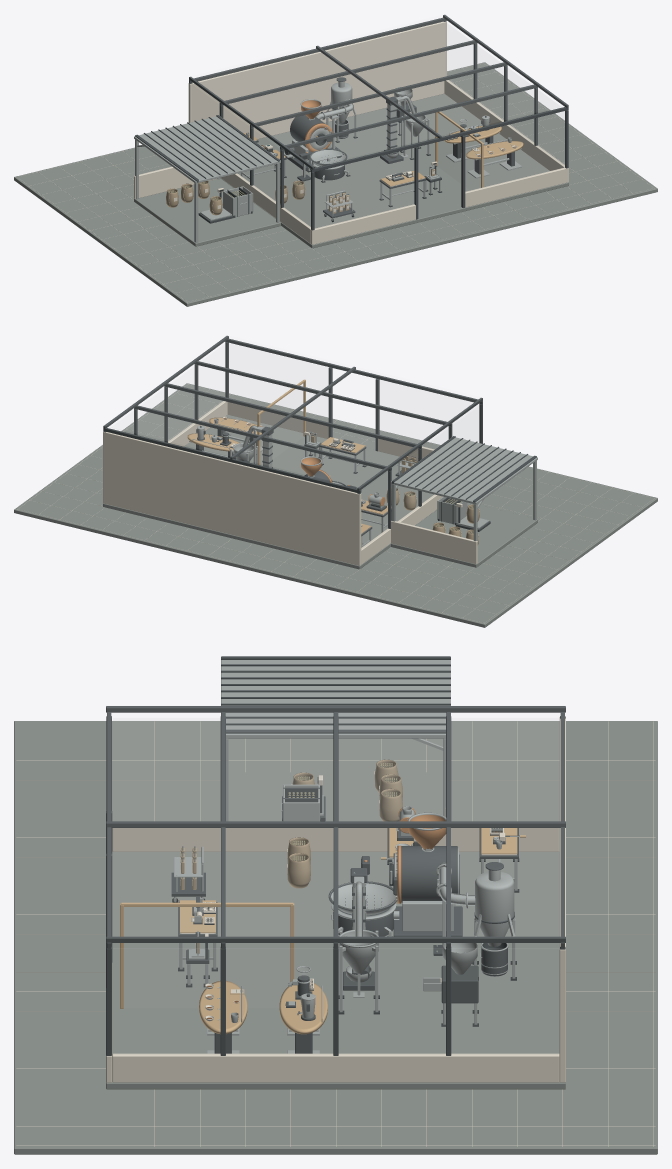
File: coffee-roastery-and-cupping-room-coffee--4987e4ff-starter-scene__32227.glb
3 views of the same model, one above another, from view 1: azimuth 30°, elevation 25°; view 2: azimuth 150°, elevation 25°; view 3: azimuth 270°, elevation 25° (orthographic). The views are drawn at different scales.
Parts seen in each view (by area): view 1: 001-coffee-roastery-and-cupping-room-roofed-coffee-roastery/ (×4), 000-coffee-roastery-and-cupping-room-roastery-floor-base/0, 002-coffee-roastery-and-cupping-room-covered-bean-receiving- (×4), 000-coffee-roastery-and-cupping-room-roastery-floor-base/1, 003-coffee-roastery-and-cupping-room-drum-coffee-roaster/0, 017-coffee-roastery-and-cupping-room-roasted-coffee-holding-, 025-coffee-roastery-and-cupping-room-green-coffee-storage-bi, 006-coffee-roastery-and-cupping-room-chaff-cyclone/0, 035-coffee-roastery-and-cupping-room-cupping-table/2, 003-coffee-roastery-and-cupping-room-drum-coffee-roaster/1, 016-coffee-roastery-and-cupping-room-bean-transfer-elevator/, 013-coffee-roastery-and-cupping-room-cooling-tray/0; view 2: 001-coffee-roastery-and-cupping-room-roofed-coffee-roastery/ (×4), 000-coffee-roastery-and-cupping-room-roastery-floor-base/0, 002-coffee-roastery-and-cupping-room-covered-bean-receiving- (×4), 000-coffee-roastery-and-cupping-room-roastery-floor-base/1, 025-coffee-roastery-and-cupping-room-green-coffee-storage-bi, 017-coffee-roastery-and-cupping-room-roasted-coffee-holding-, 047-coffee-roastery-and-cupping-room-cupping-table/2; view 3: 001-coffee-roastery-and-cupping-room-roofed-coffee-roastery/ (×5), 000-coffee-roastery-and-cupping-room-roastery-floor-base/0, 002-coffee-roastery-and-cupping-room-covered-bean-receiving- (×3), 000-coffee-roastery-and-cupping-room-roastery-floor-base/1, 003-coffee-roastery-and-cupping-room-drum-coffee-roaster/0, 006-coffee-roastery-and-cupping-room-chaff-cyclone/0, 017-coffee-roastery-and-cupping-room-roasted-coffee-holding-, 003-coffee-roastery-and-cupping-room-drum-coffee-roaster/1, 035-coffee-roastery-and-cupping-room-cupping-table/2, 047-coffee-roastery-and-cupping-room-cupping-table/2, 013-coffee-roastery-and-cupping-room-cooling-tray/0, 018-coffee-roastery-and-cupping-room-roasted-bean-destoner/2 (+8 smaller).
Part boxes in pixels (x1=…): 001-coffee-roastery-and-cupping-room-roofed-coffee-roastery/ (×4): x1=188, y1=14, x2=568, y2=248; 000-coffee-roastery-and-cupping-room-roastery-floor-base/0: x1=14, y1=62, x2=657, y2=306; 002-coffee-roastery-and-cupping-room-covered-bean-receiving- (×4): x1=134, y1=115, x2=280, y2=246; 000-coffee-roastery-and-cupping-room-roastery-floor-base/1: x1=17, y1=63, x2=654, y2=302; 003-coffee-roastery-and-cupping-room-drum-coffee-roaster/0: x1=284, y1=115, x2=332, y2=170; 017-coffee-roastery-and-cupping-room-roasted-coffee-holding-: x1=401, y1=95, x2=429, y2=158; 025-coffee-roastery-and-cupping-room-green-coffee-storage-bi: x1=223, y1=186, x2=253, y2=217; 006-coffee-roastery-and-cupping-room-chaff-cyclone/0: x1=326, y1=81, x2=356, y2=141; 035-coffee-roastery-and-cupping-room-cupping-table/2: x1=466, y1=141, x2=523, y2=159; 003-coffee-roastery-and-cupping-room-drum-coffee-roaster/1: x1=284, y1=112, x2=330, y2=162; 016-coffee-roastery-and-cupping-room-bean-transfer-elevator/: x1=385, y1=96, x2=403, y2=158; 013-coffee-roastery-and-cupping-room-cooling-tray/0: x1=310, y1=149, x2=346, y2=166; 001-coffee-roastery-and-cupping-room-roofed-coffee-roastery/ (×4): x1=103, y1=335, x2=482, y2=569; 000-coffee-roastery-and-cupping-room-roastery-floor-base/0: x1=14, y1=383, x2=657, y2=627; 002-coffee-roastery-and-cupping-room-covered-bean-receiving- (×4): x1=391, y1=436, x2=537, y2=567; 000-coffee-roastery-and-cupping-room-roastery-floor-base/1: x1=17, y1=384, x2=654, y2=623; 025-coffee-roastery-and-cupping-room-green-coffee-storage-bi: x1=437, y1=496, x2=467, y2=524; 017-coffee-roastery-and-cupping-room-roasted-coffee-holding-: x1=230, y1=425, x2=258, y2=464; 047-coffee-roastery-and-cupping-room-cupping-table/2: x1=187, y1=433, x2=239, y2=451; 001-coffee-roastery-and-cupping-room-roofed-coffee-roastery/ (×5): x1=106, y1=706, x2=565, y2=1089; 000-coffee-roastery-and-cupping-room-roastery-floor-base/0: x1=14, y1=721, x2=657, y2=1154; 002-coffee-roastery-and-cupping-room-covered-bean-receiving- (×3): x1=221, y1=656, x2=450, y2=821; 000-coffee-roastery-and-cupping-room-roastery-floor-base/1: x1=16, y1=721, x2=655, y2=1146; 003-coffee-roastery-and-cupping-room-drum-coffee-roaster/0: x1=393, y1=846, x2=462, y2=936; 006-coffee-roastery-and-cupping-room-chaff-cyclone/0: x1=468, y1=870, x2=515, y2=978; 017-coffee-roastery-and-cupping-room-roasted-coffee-holding-: x1=339, y1=881, x2=378, y2=1012; 003-coffee-roastery-and-cupping-room-drum-coffee-roaster/1: x1=390, y1=847, x2=458, y2=931; 035-coffee-roastery-and-cupping-room-cupping-table/2: x1=199, y1=980, x2=247, y2=1034; 047-coffee-roastery-and-cupping-room-cupping-table/2: x1=279, y1=983, x2=327, y2=1034; 013-coffee-roastery-and-cupping-room-cooling-tray/0: x1=329, y1=881, x2=396, y2=917; 018-coffee-roastery-and-cupping-room-roasted-bean-destoner/2: x1=441, y1=965, x2=478, y2=1003.
Bounding box in the file's own units: 22 × 3.81 × 14.
